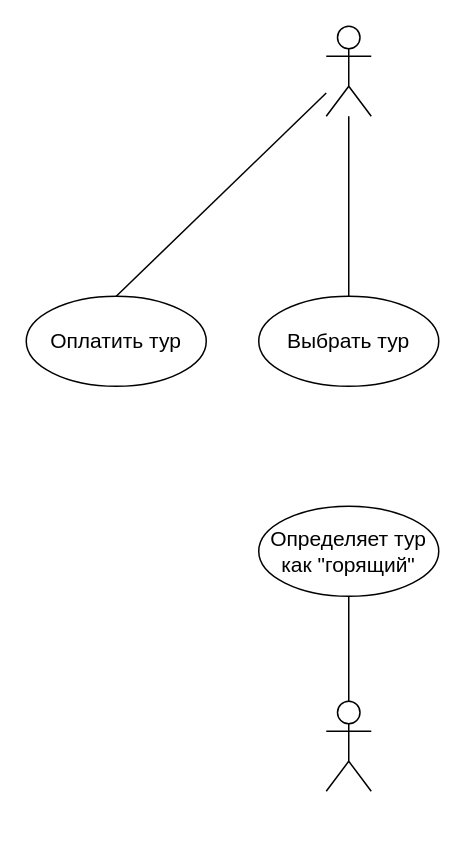
Some shapes in this 465 by 854 pixel diagram are drawn without their labels. The centre of each missing label's shape, as x and y in pixels:
"Челик" goes at pixel 348 70.
"Челик поважнее" goes at pixel 348 745.
